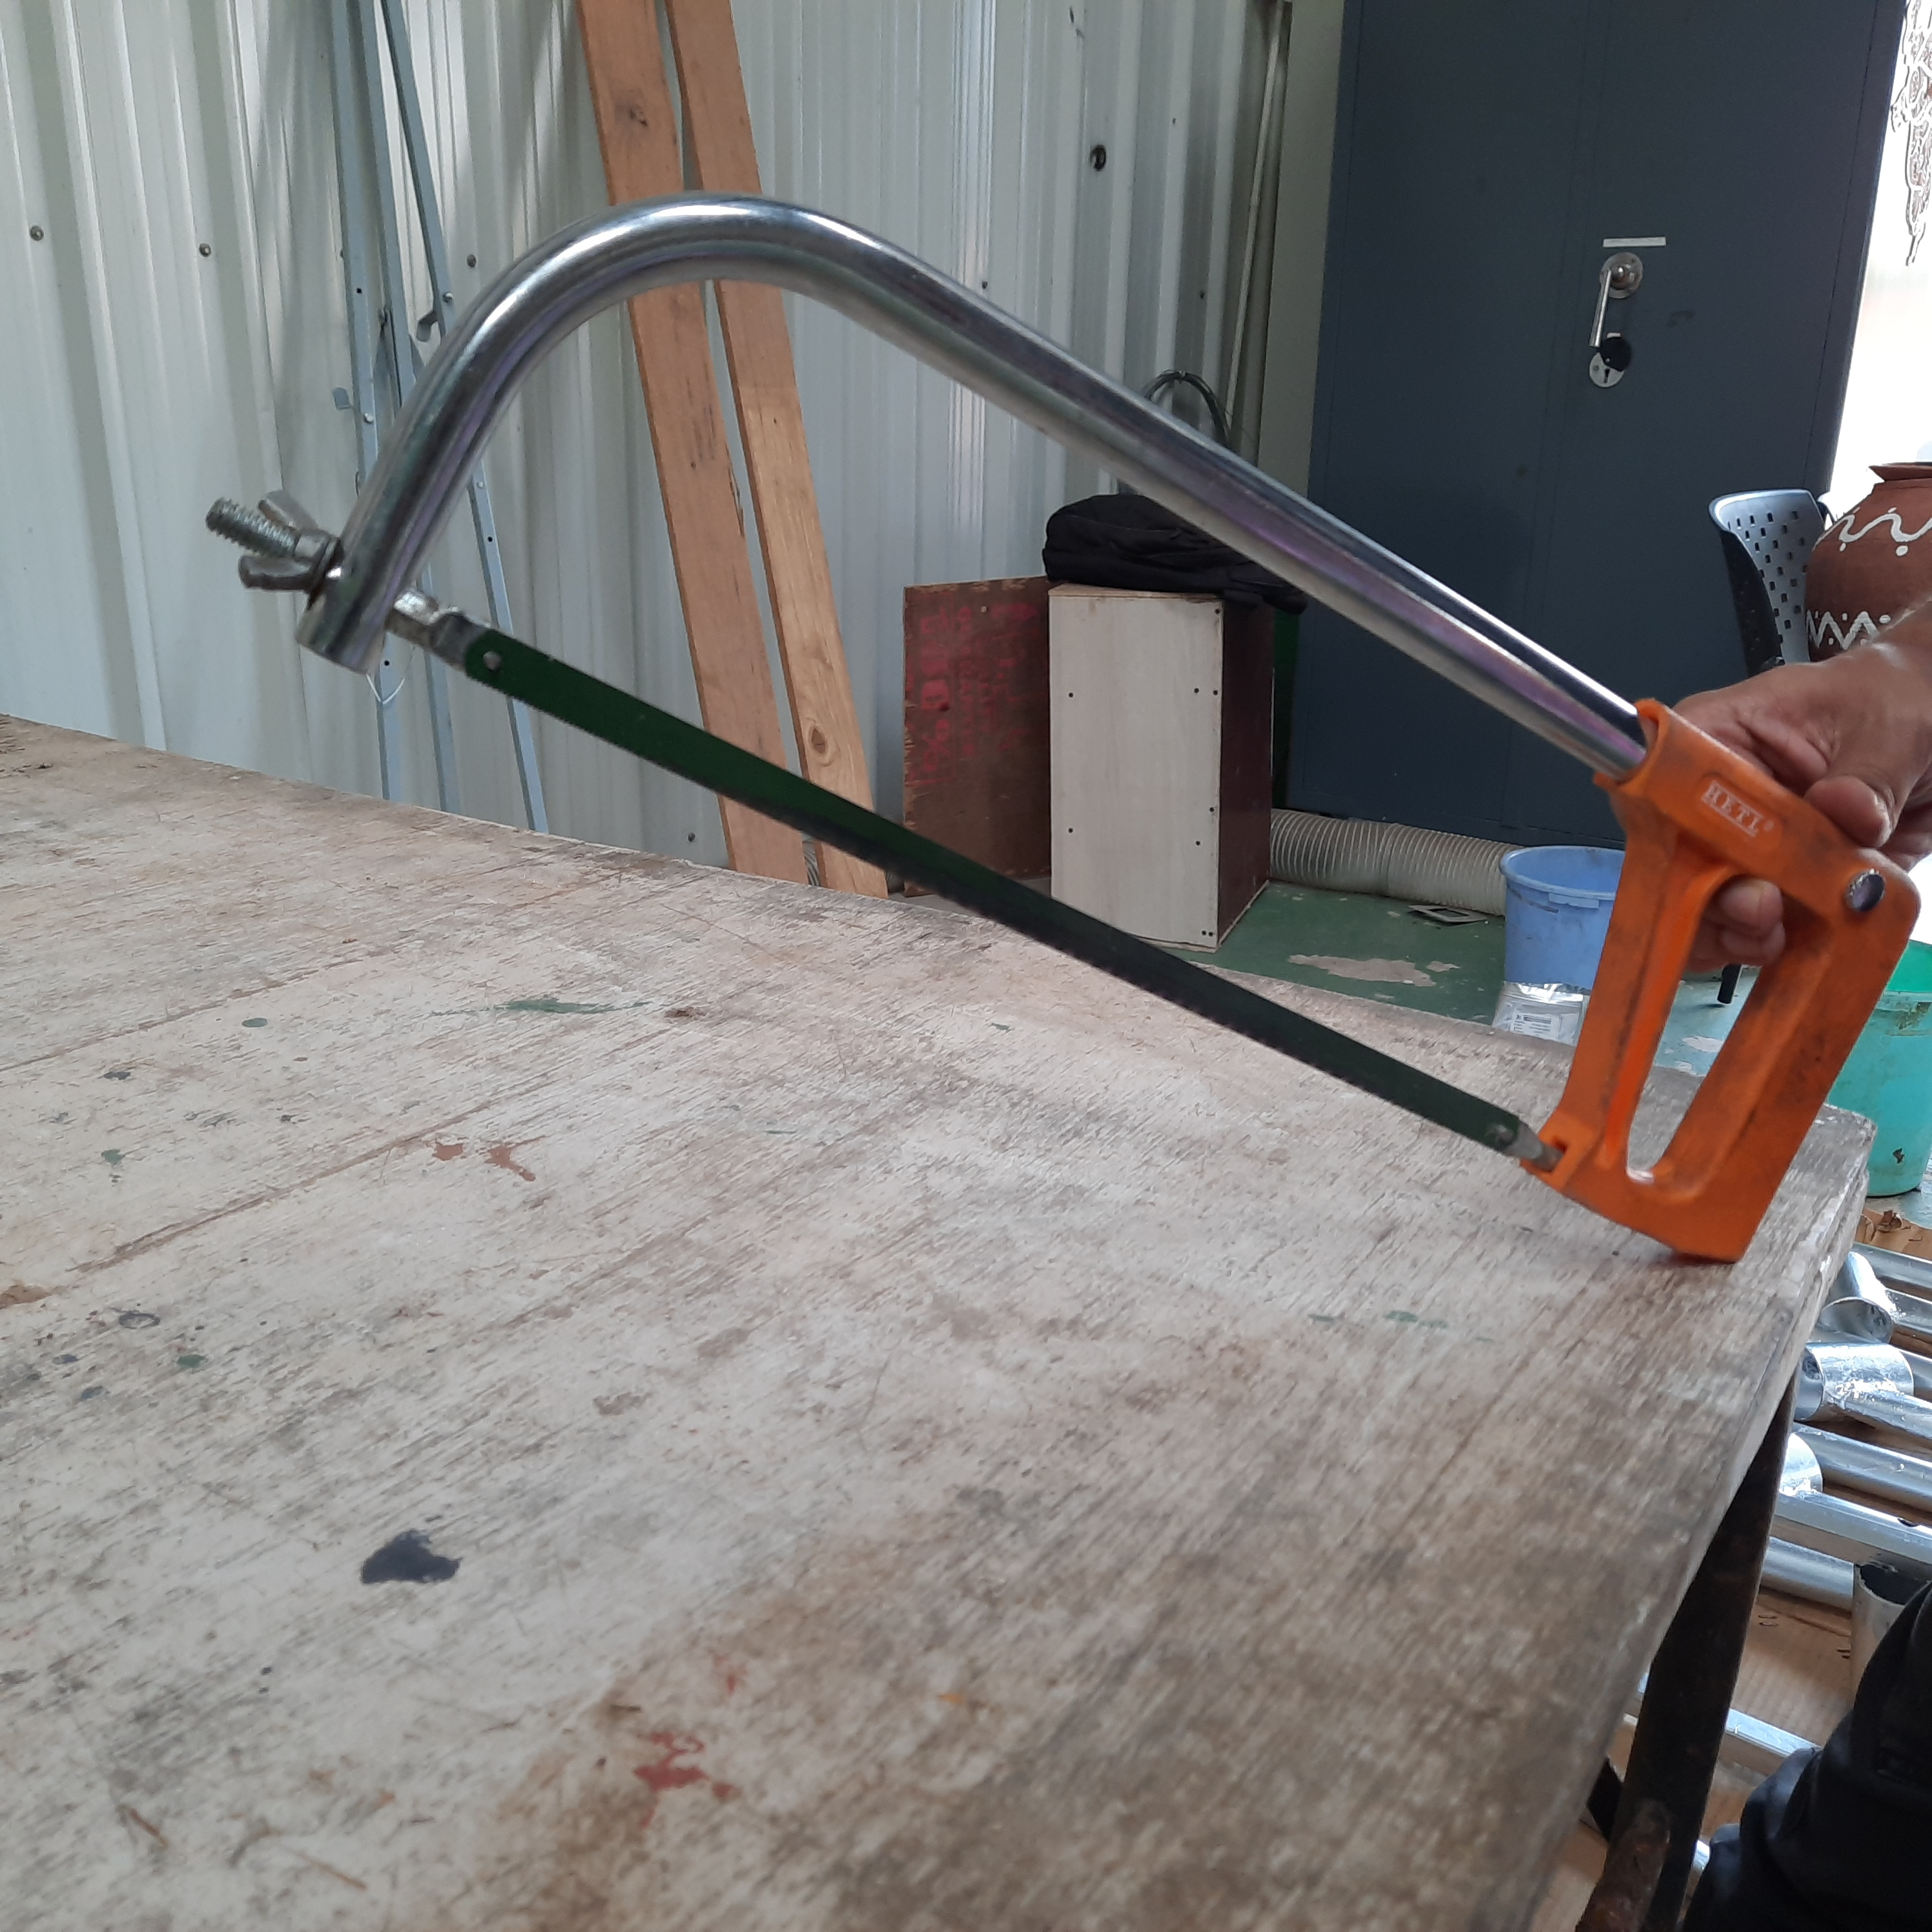Hexaframe: (189, 163, 1932, 1315)
